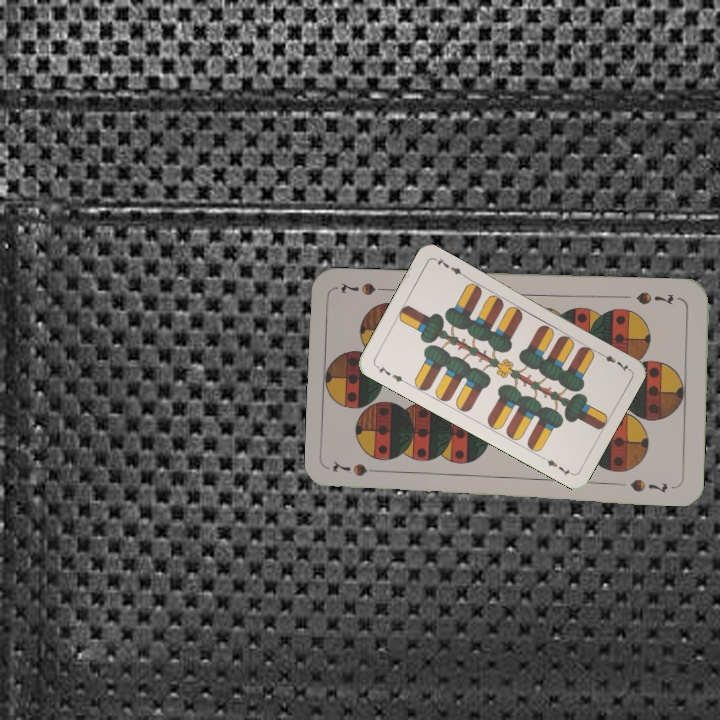E7: (594, 347, 632, 374), (371, 361, 409, 386)
S7: (329, 460, 388, 479), (632, 288, 676, 308)
